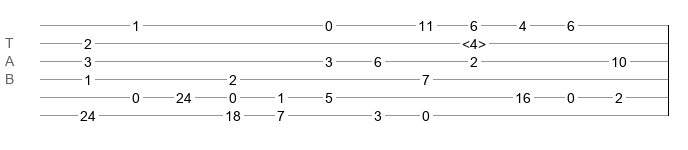0: (132, 90, 140, 100), (229, 90, 237, 100), (325, 18, 333, 28), (422, 108, 430, 118), (567, 90, 575, 100)
1: (84, 72, 92, 82), (132, 18, 140, 28), (277, 90, 285, 100)
10: (611, 54, 627, 64)
11: (418, 18, 434, 28)
16: (515, 90, 531, 100)
18: (225, 108, 241, 118)
2: (84, 36, 92, 46), (229, 72, 237, 82), (470, 54, 478, 64), (615, 90, 623, 100)
24: (80, 108, 96, 118), (176, 90, 192, 100)
3: (84, 54, 92, 64), (325, 54, 333, 64), (374, 108, 382, 118)
4: (519, 18, 527, 28)
5: (325, 90, 333, 100)
6: (374, 54, 382, 64), (470, 18, 478, 28), (567, 18, 575, 28)
7: (277, 108, 285, 118), (422, 72, 430, 82)
harmonic: (462, 36, 486, 46)
